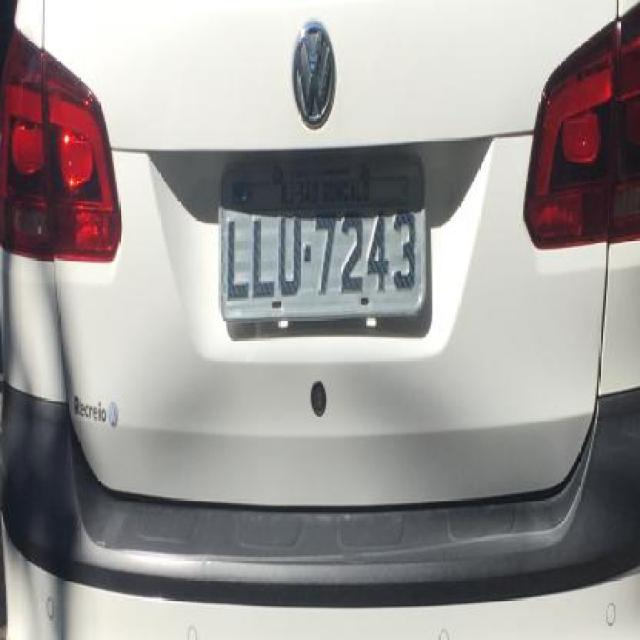old_plate: (212, 144, 437, 329)
